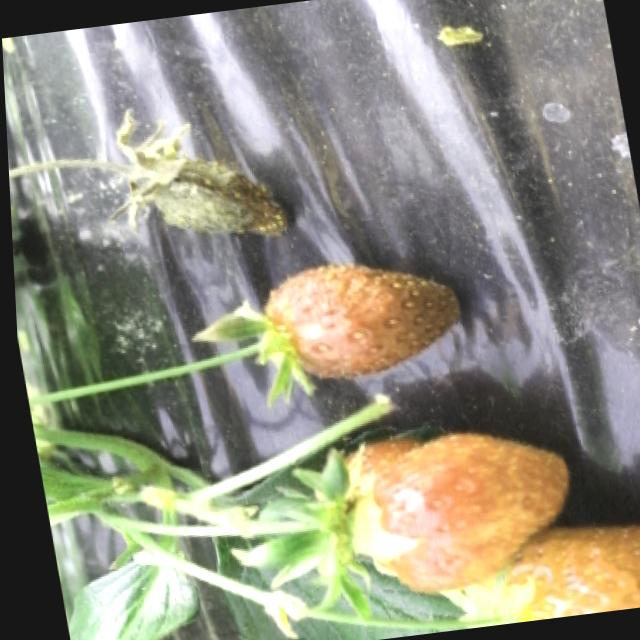Gray Mold: (106, 105, 286, 237)
